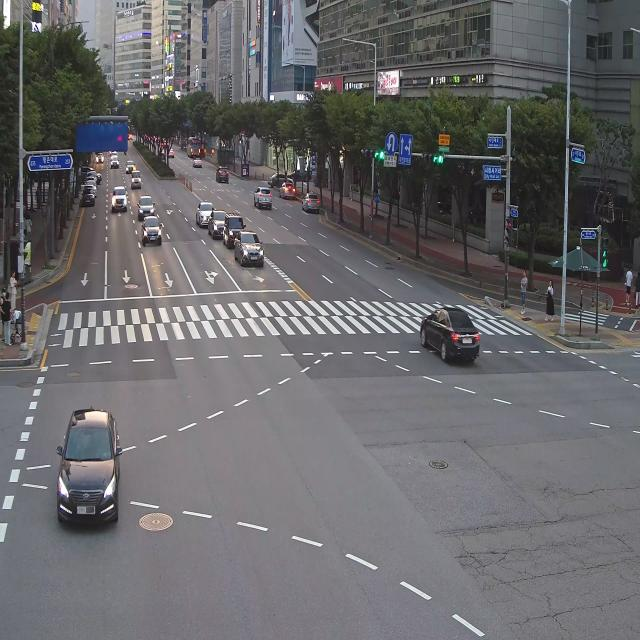Bus: (185, 135, 201, 153)
Car: (44, 393, 126, 539), (419, 298, 481, 382), (234, 227, 266, 275), (219, 210, 245, 251), (139, 211, 162, 254), (108, 184, 130, 222), (207, 202, 230, 238), (132, 194, 160, 222), (253, 179, 273, 218), (195, 195, 213, 237), (299, 187, 322, 219), (284, 164, 312, 183), (77, 187, 97, 211), (78, 164, 102, 184), (213, 165, 230, 191), (280, 178, 298, 202), (264, 172, 293, 186), (189, 153, 204, 170), (123, 158, 136, 176), (86, 179, 98, 198), (110, 155, 122, 172), (130, 170, 140, 190), (158, 148, 168, 162), (95, 150, 104, 165), (86, 169, 97, 180), (168, 145, 175, 158), (84, 175, 95, 182)
